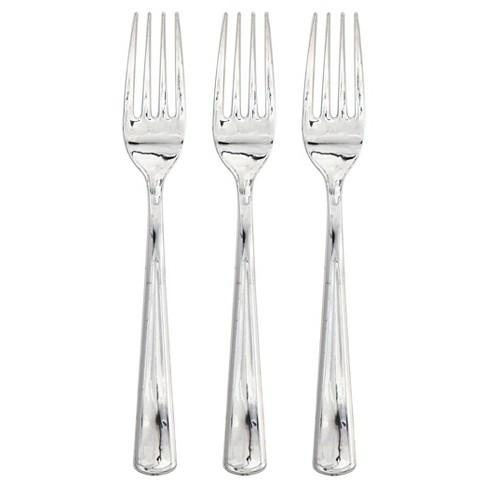Fork: (301, 11, 366, 476), (122, 11, 186, 476), (212, 11, 276, 476)
